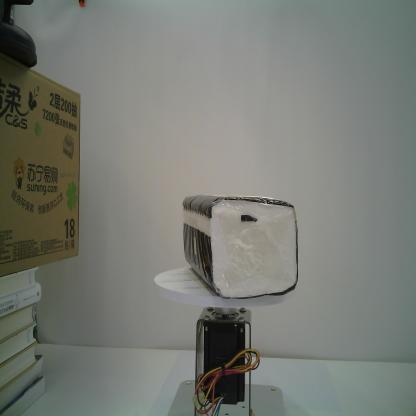Tissue: (181, 193, 299, 301)
